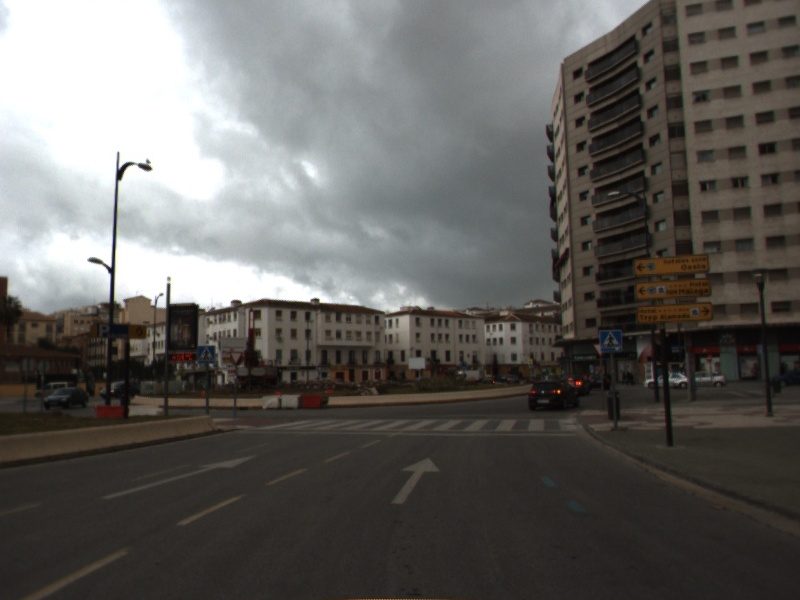STRAIGHT: (97, 452, 261, 502), (388, 455, 443, 506)
